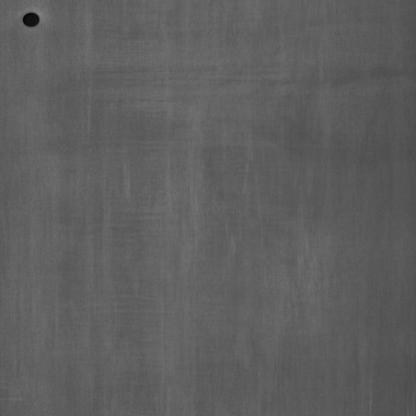punching_hole: (21, 9, 43, 33)
